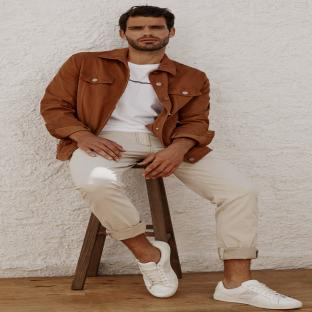Human: (41, 5, 302, 309)
